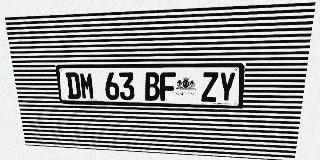3: (119, 72, 135, 100)
6: (104, 72, 120, 100)
B: (144, 72, 160, 101)
D: (65, 72, 81, 99)
F: (160, 72, 175, 101)
M: (79, 72, 95, 99)
Y: (218, 72, 236, 102)
Z: (201, 72, 218, 102)
